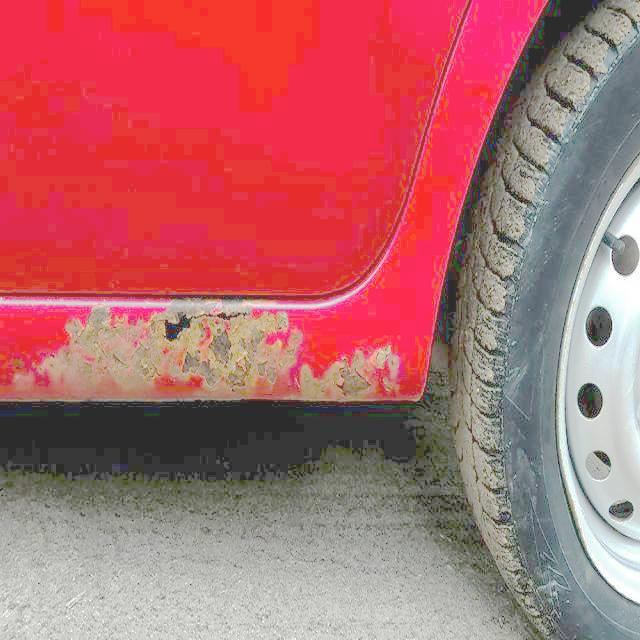Corrosion: (68, 301, 301, 392), (325, 336, 401, 398), (6, 343, 68, 383), (296, 365, 333, 402)
